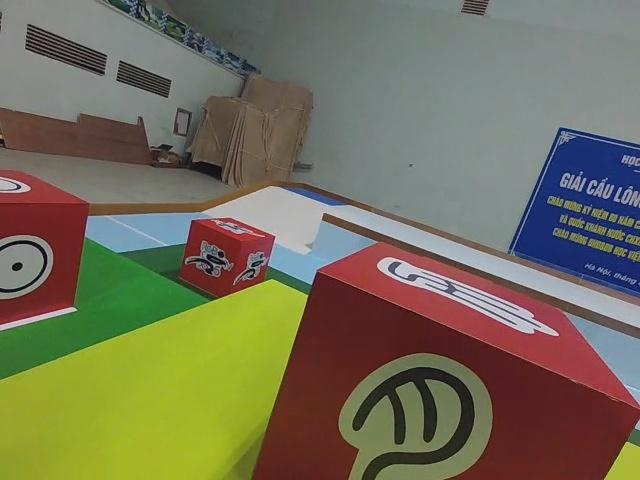R1: (175, 215, 275, 299)
R2 Fake: (251, 237, 640, 480)
R2 Real: (0, 165, 94, 334)
